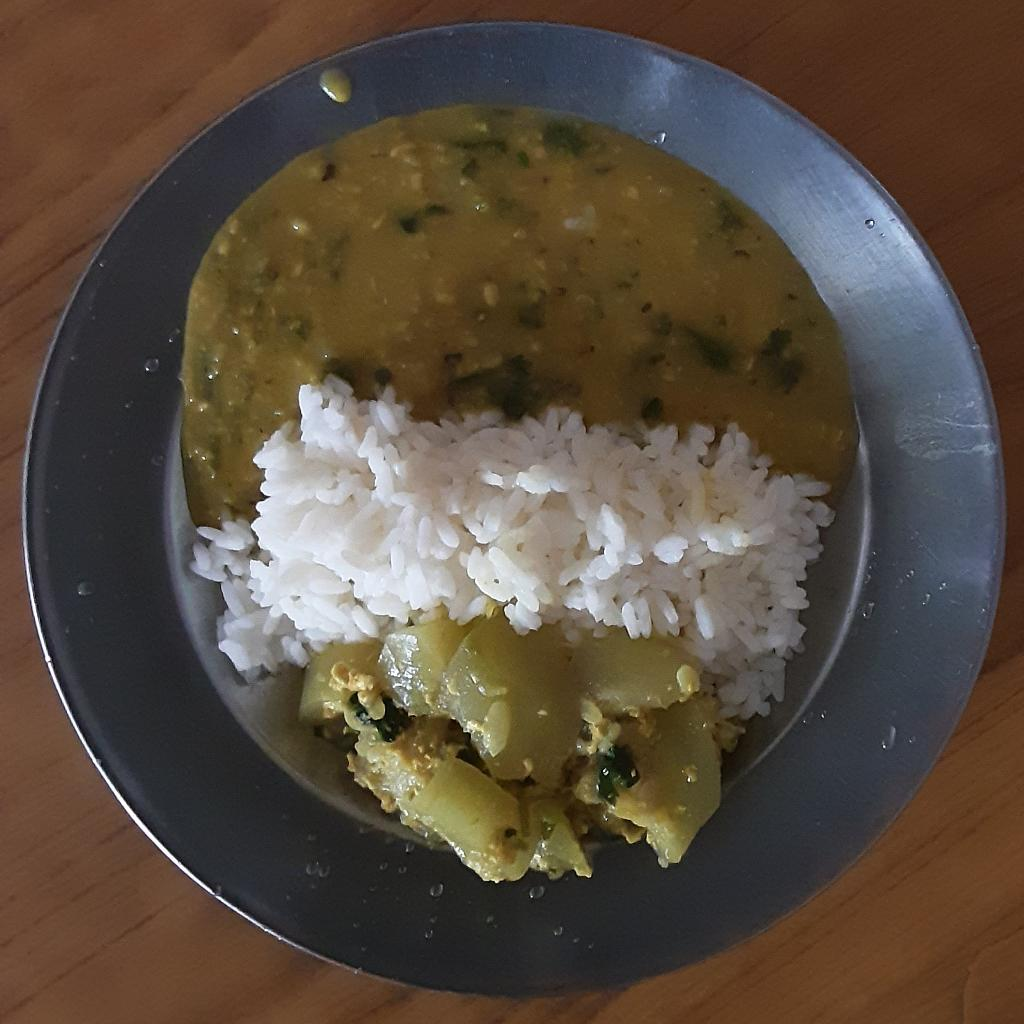daal: (175, 98, 857, 527)
lau: (302, 610, 740, 887)
rice: (194, 373, 840, 719)
